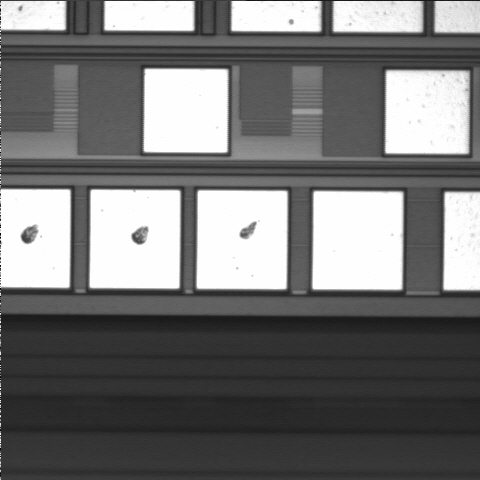pad: (90, 190, 180, 289), (197, 190, 287, 289), (313, 191, 403, 290), (144, 69, 228, 153), (386, 71, 468, 154)
